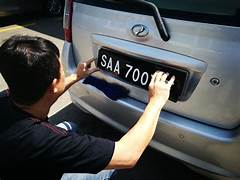number_plate: (99, 49, 153, 91)
